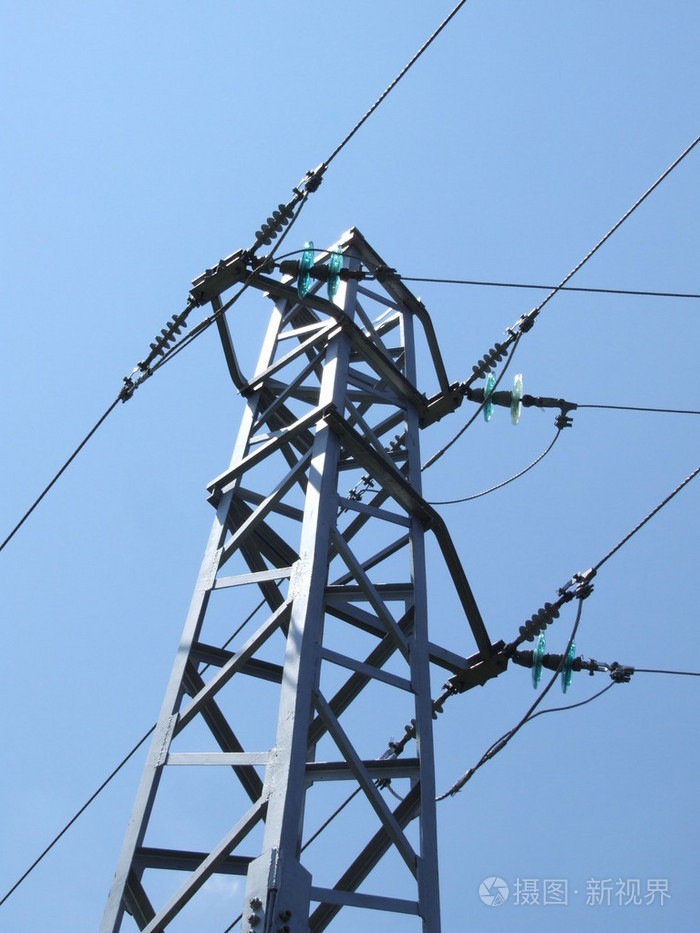insulator: (295, 239, 345, 305), (527, 635, 578, 696), (476, 369, 525, 427), (518, 597, 559, 639), (149, 312, 187, 357), (255, 204, 295, 246), (471, 345, 506, 381)
